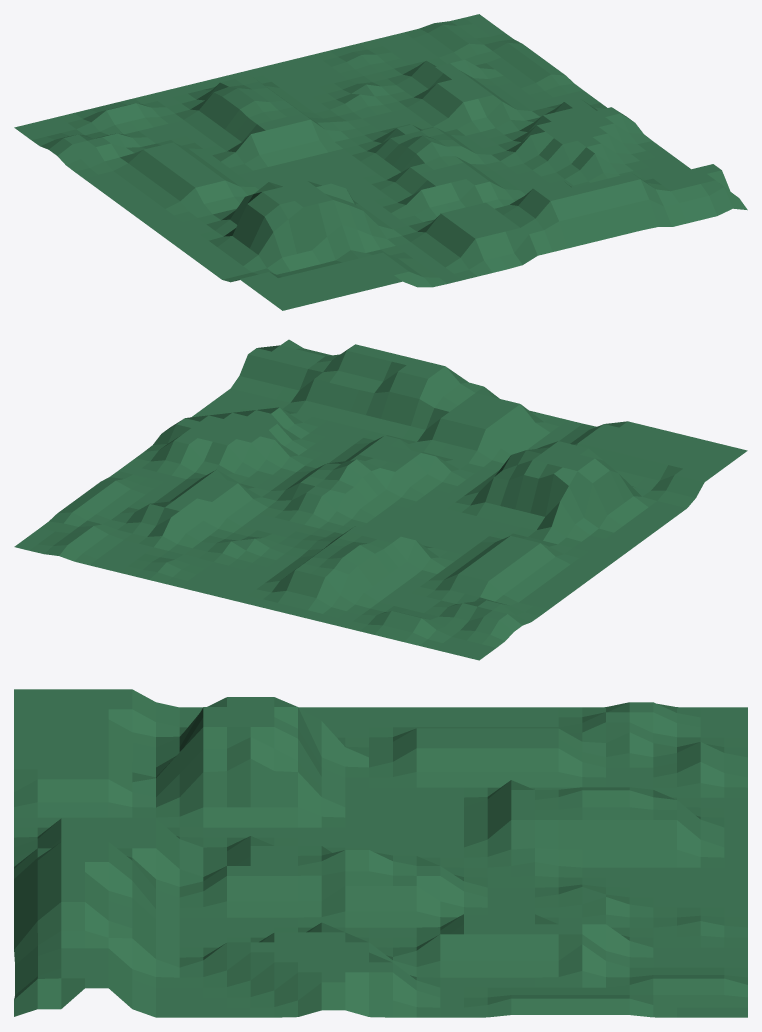
Rendered from low poly grassy terrain MY ASSET.fbx.
The picture shows the model from 3 angles, top to bottom: view 1: azimuth 30°, elevation 25°; view 2: azimuth 150°, elevation 25°; view 3: azimuth 270°, elevation 25°; orthographic projection. The views are drawn at different scales.
Parts seen in each view (by area): view 1: Plane.002; view 2: Plane.002; view 3: Plane.002.
Part boxes in pixels (<box>): Plane.002: <box>14,14,747,310</box>; Plane.002: <box>14,339,747,660</box>; Plane.002: <box>14,689,747,1017</box>.
Size of the model in its own units: 2000 by 182 by 2000.
